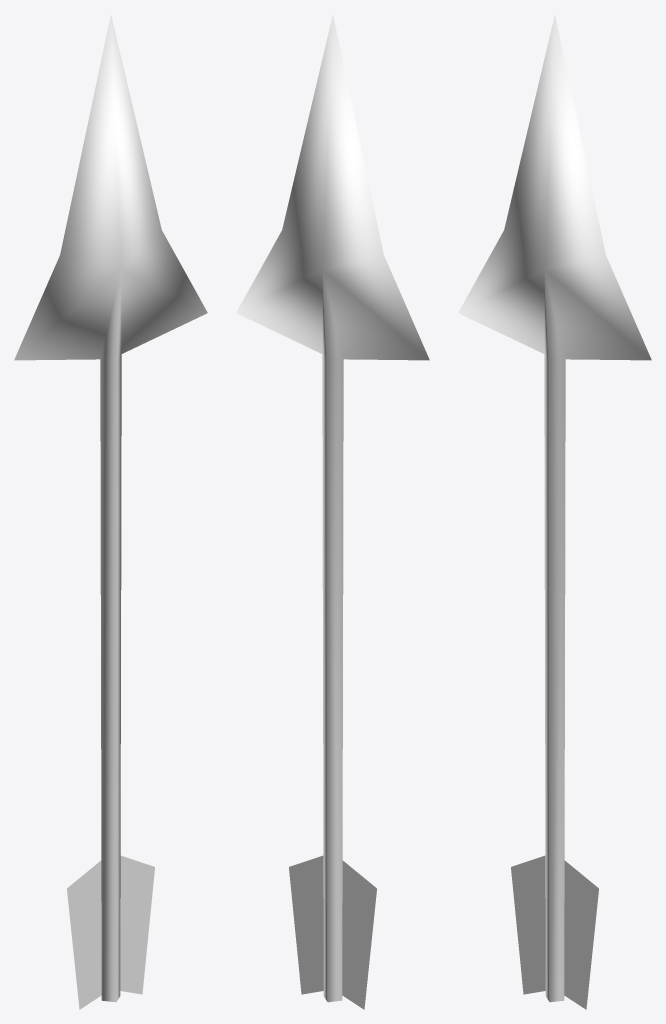
File: hero02_Skill03_modle.FBX
3 views of the same model, side by side, from view 1: azimuth 30°, elevation 25°; view 2: azimuth 150°, elevation 25°; view 3: azimuth 330°, elevation 25° (orthographic).
Parts seen in each view (by area): view 1: hero02_Skill03_modle; view 2: hero02_Skill03_modle; view 3: hero02_Skill03_modle.
Boxes of the visible parts, x1=… form: hero02_Skill03_modle: x1=14, y1=15, x2=207, y2=1009; hero02_Skill03_modle: x1=236, y1=15, x2=429, y2=1009; hero02_Skill03_modle: x1=458, y1=15, x2=651, y2=1009.
Size of the model in its own units: 9.61 by 46.78 by 1.78.
